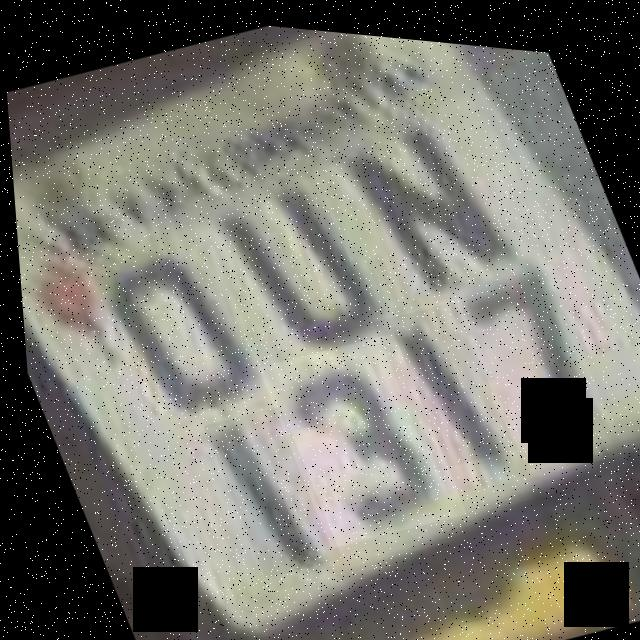1: (366, 285, 513, 469), (195, 395, 335, 579)
3: (250, 315, 462, 553)
7: (436, 225, 618, 441)
N: (315, 76, 525, 315)
O: (69, 211, 279, 444)
U: (174, 136, 416, 382)
